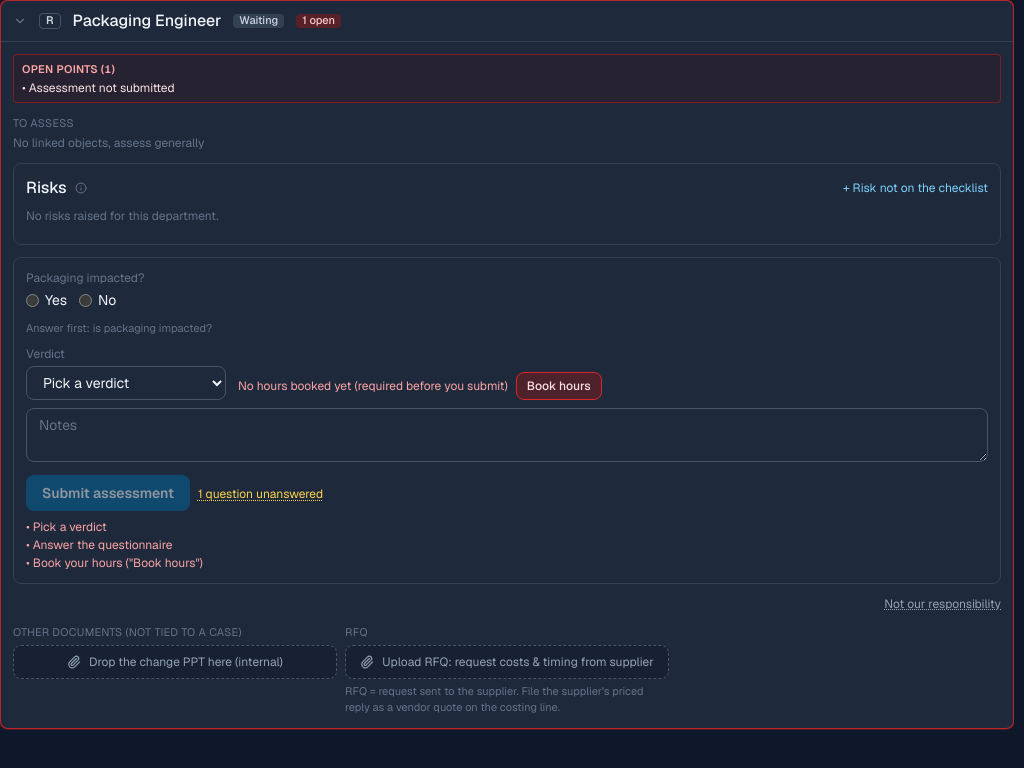
it: AssessmentBuckets department questionnaires › submits a not-impacted answer in one step
This screenshot has width=1024, height=768.
Later steps or results of the test are not shown.
What coordinates should you click on to do the following:
click the radio button with test id "pkg-impacted-no"
I would click on:
 (86, 300)
Its box is x1=79 y1=294 x2=92 y2=306.
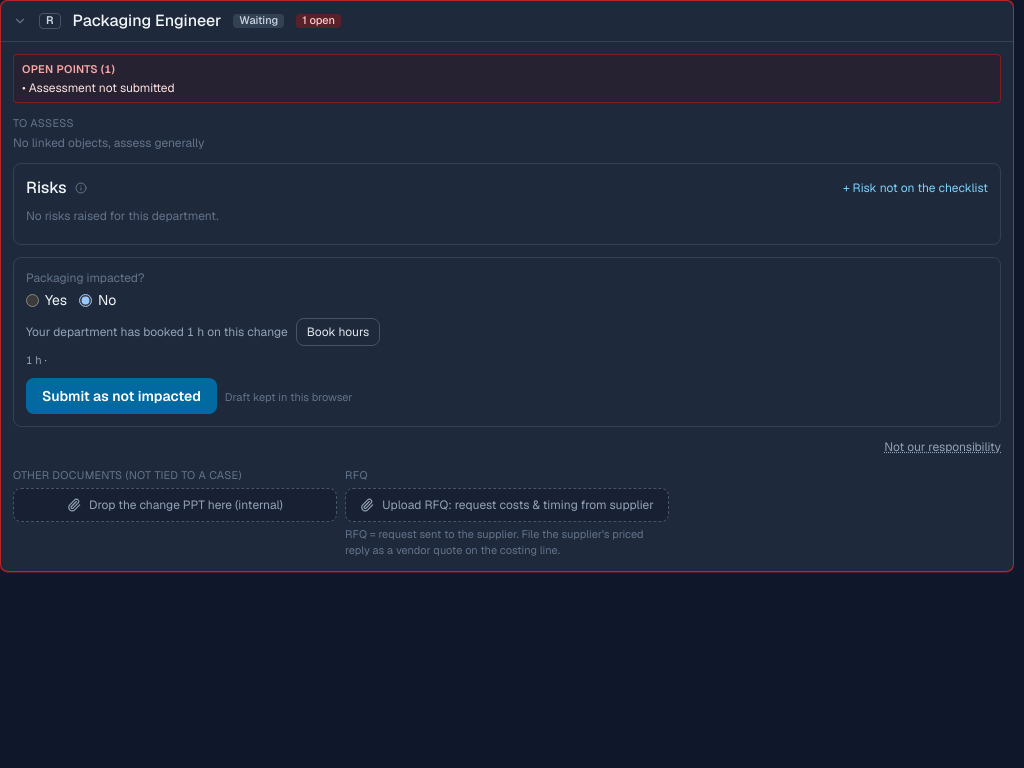
Expected: the button with test id "assessment-submit" is enabled
Expected: the button with test id "assessment-submit" reads "Submit as not impacted"
What coordinates should you click on to do the following:
click the button with test id "assessment-submit"
I would click on:
 (121, 396)
Its box is x1=26 y1=378 x2=217 y2=414.
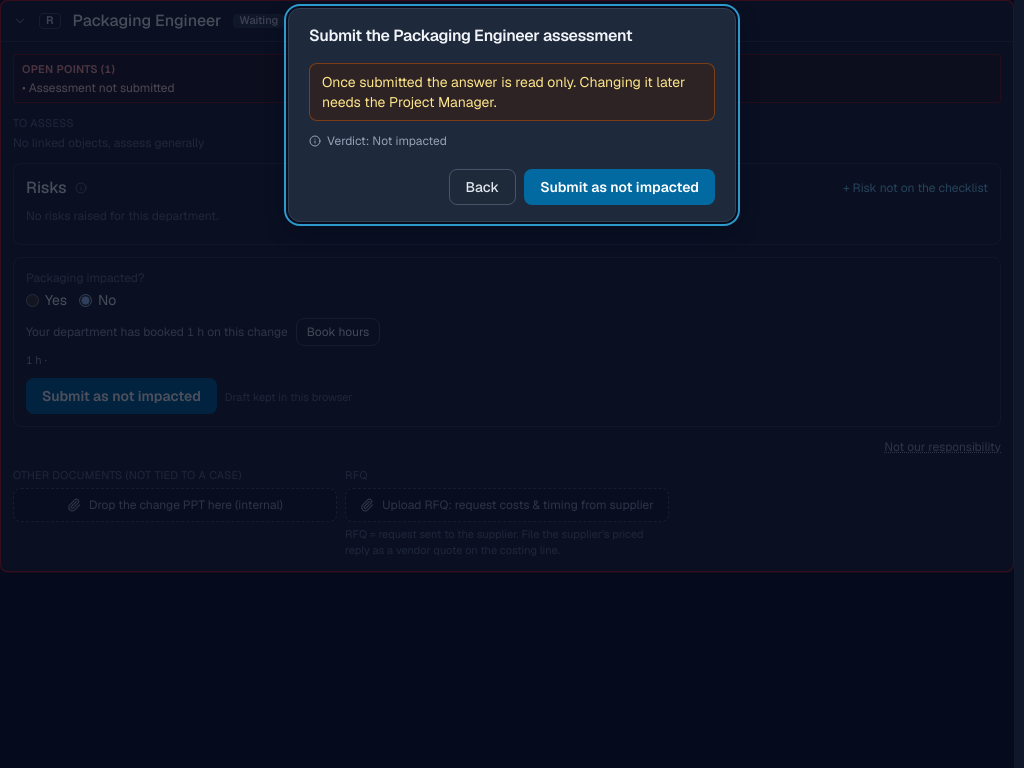
Expected: the list with test id "confirm-info" shows "Not impacted", x1=327 y1=133 x2=447 y2=149
